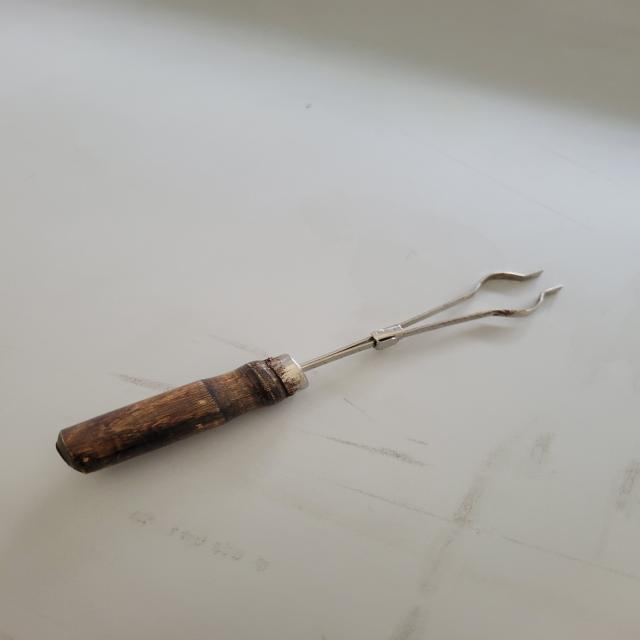TestTube_Holder: (30, 249, 584, 502)
